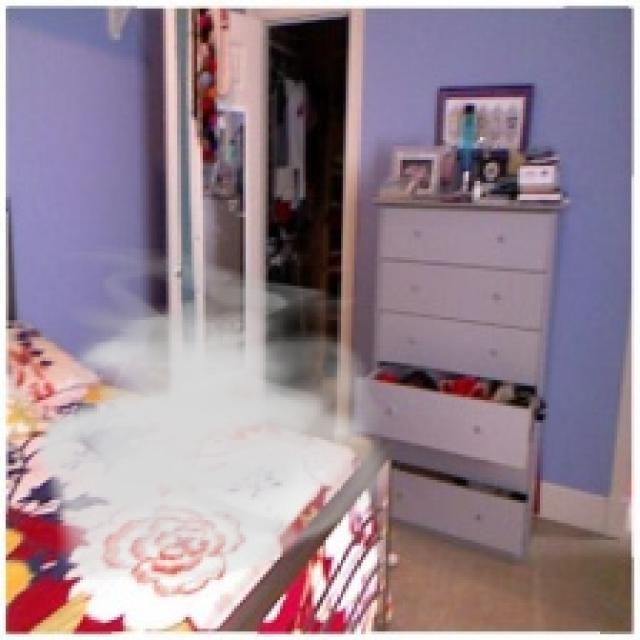Smoke: (31, 243, 400, 592)
